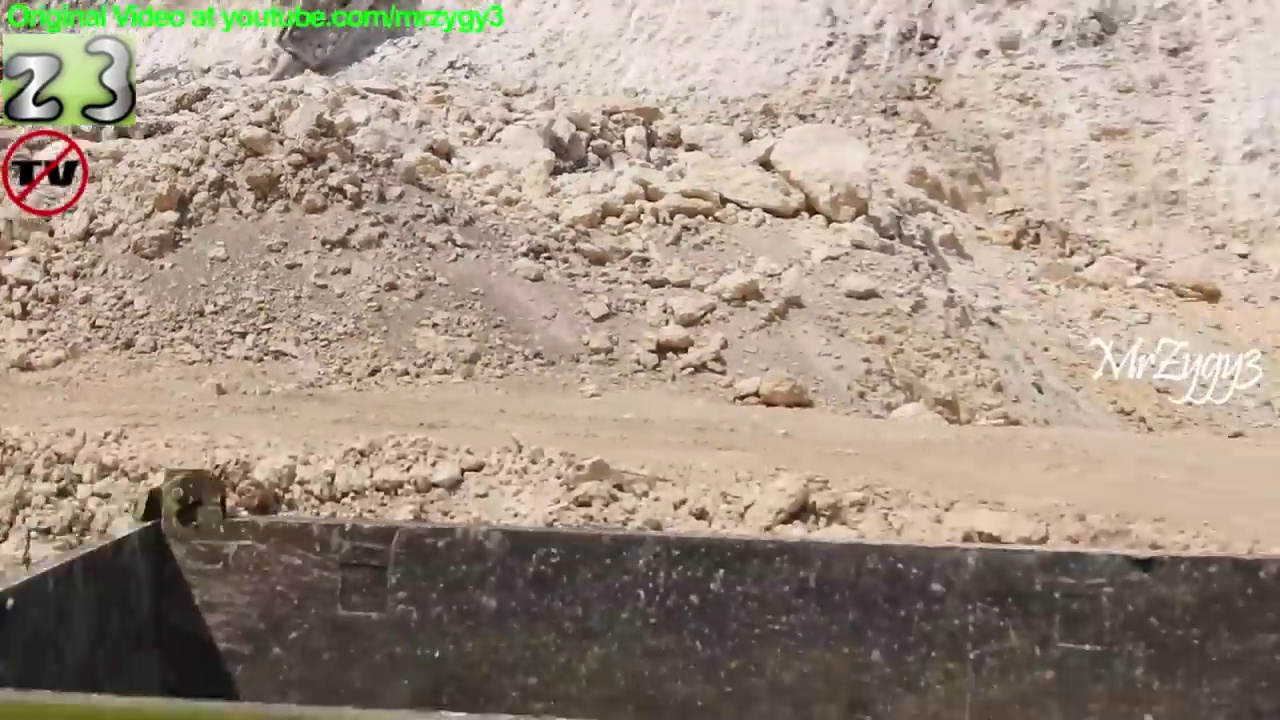excavator: (249, 1, 429, 90)
truck: (1, 459, 1280, 720)
